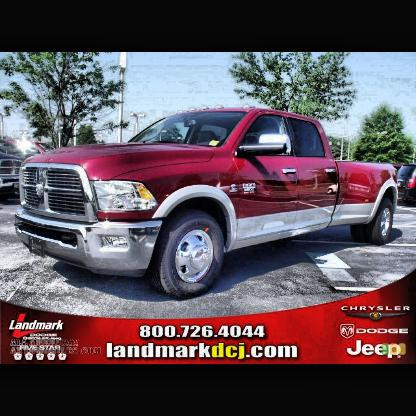Dodge Ram Pickup 3500 Crew Cab 2010: (14, 107, 400, 300)
